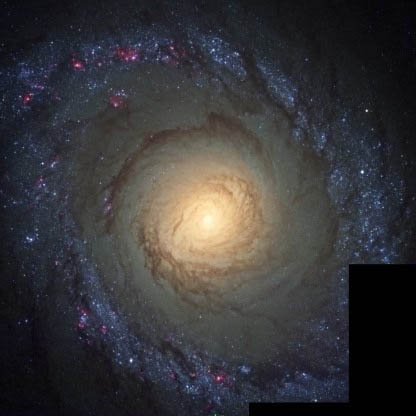Messier 94: (18, 18, 402, 403)
